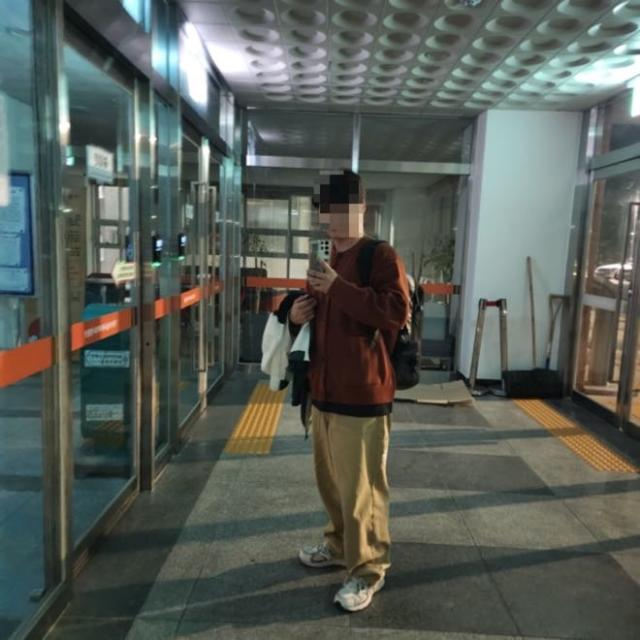cardigan: (304, 236, 410, 406)
cottonpants: (308, 404, 393, 583)
